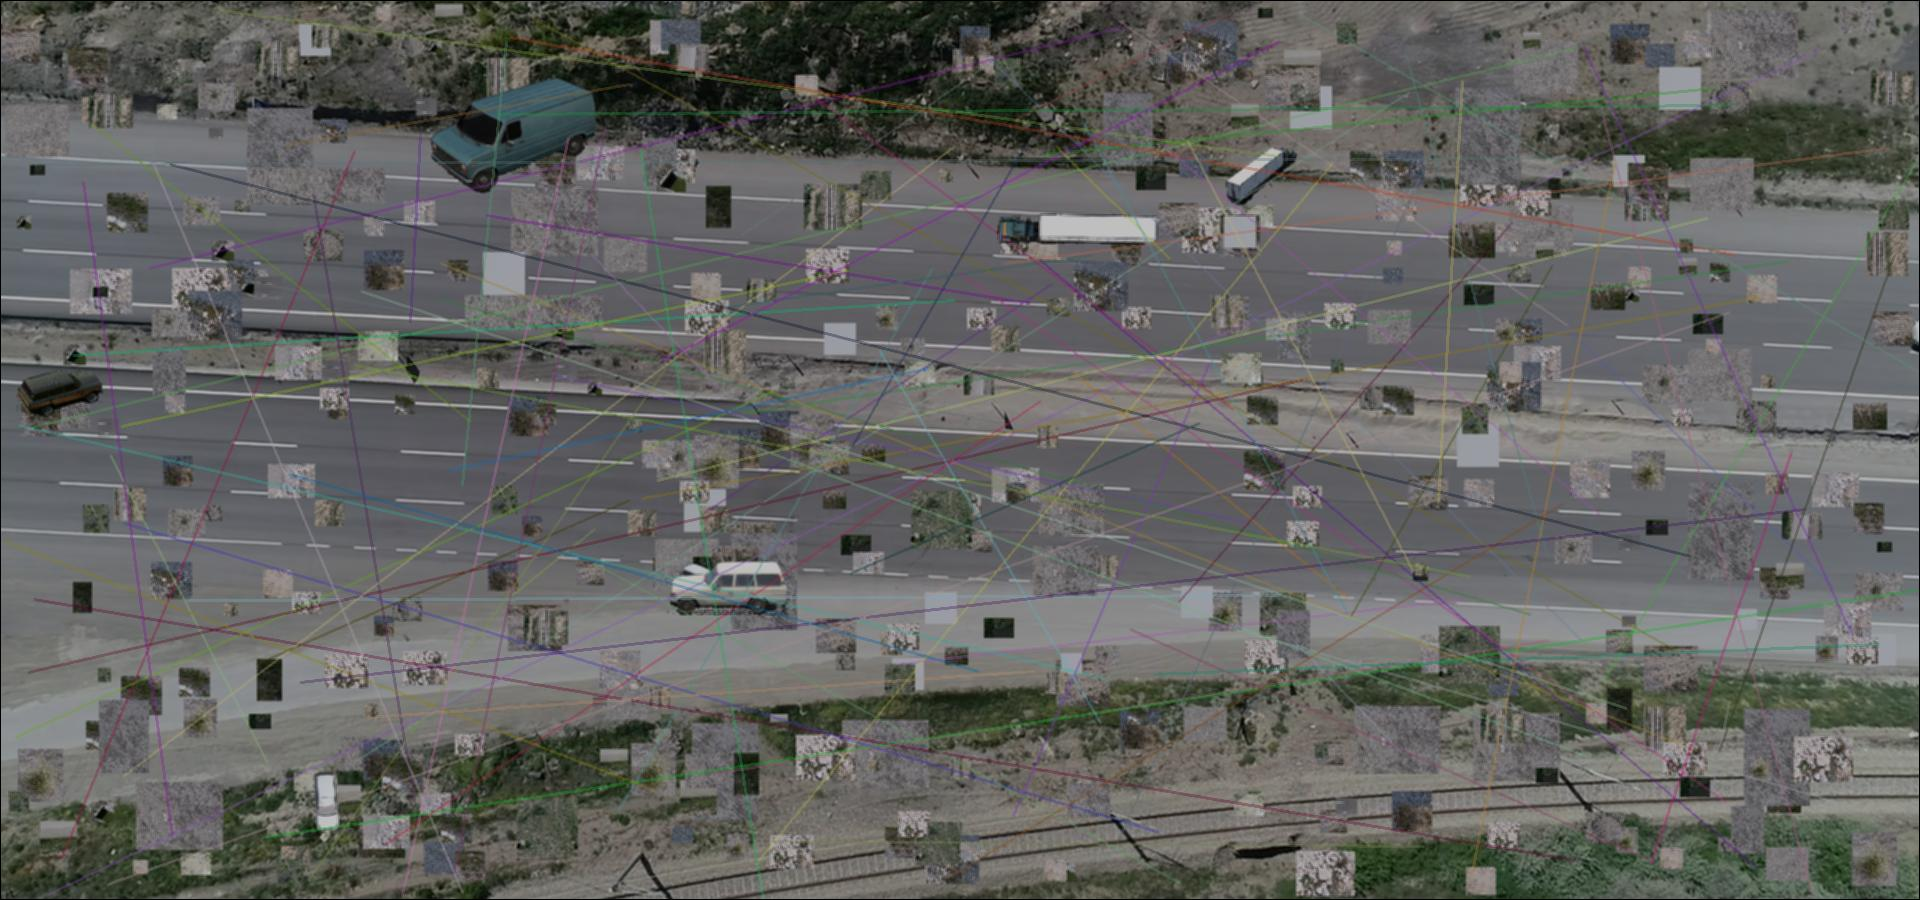arac: (429, 75, 595, 193), (667, 560, 789, 615), (997, 211, 1161, 251), (1222, 144, 1297, 204), (17, 370, 104, 416), (678, 562, 735, 605), (309, 771, 343, 831)
